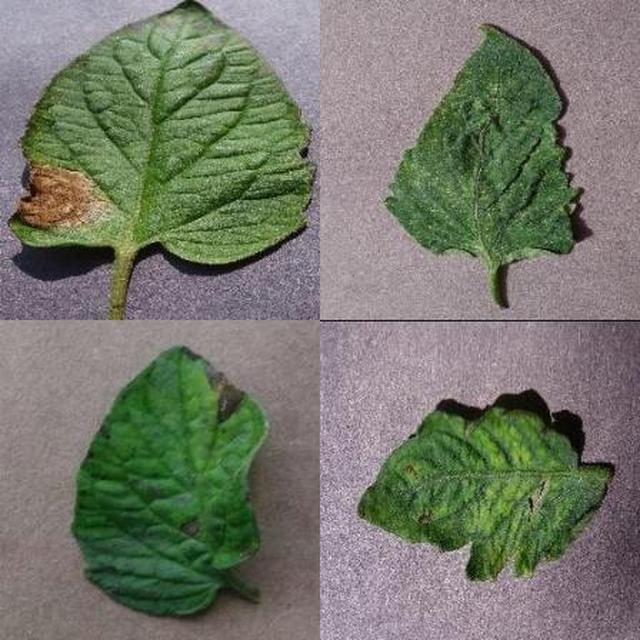Late Blight Leaf: (233, 189, 640, 640)
